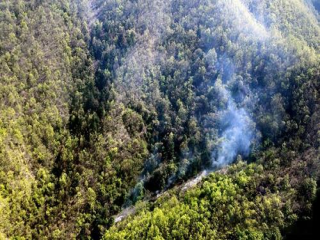smoke: (196, 81, 269, 167)
